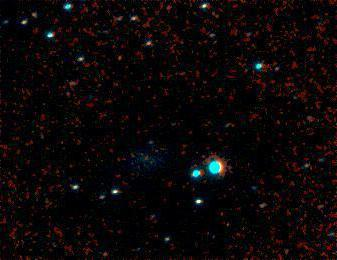star: (247, 69, 277, 99)
